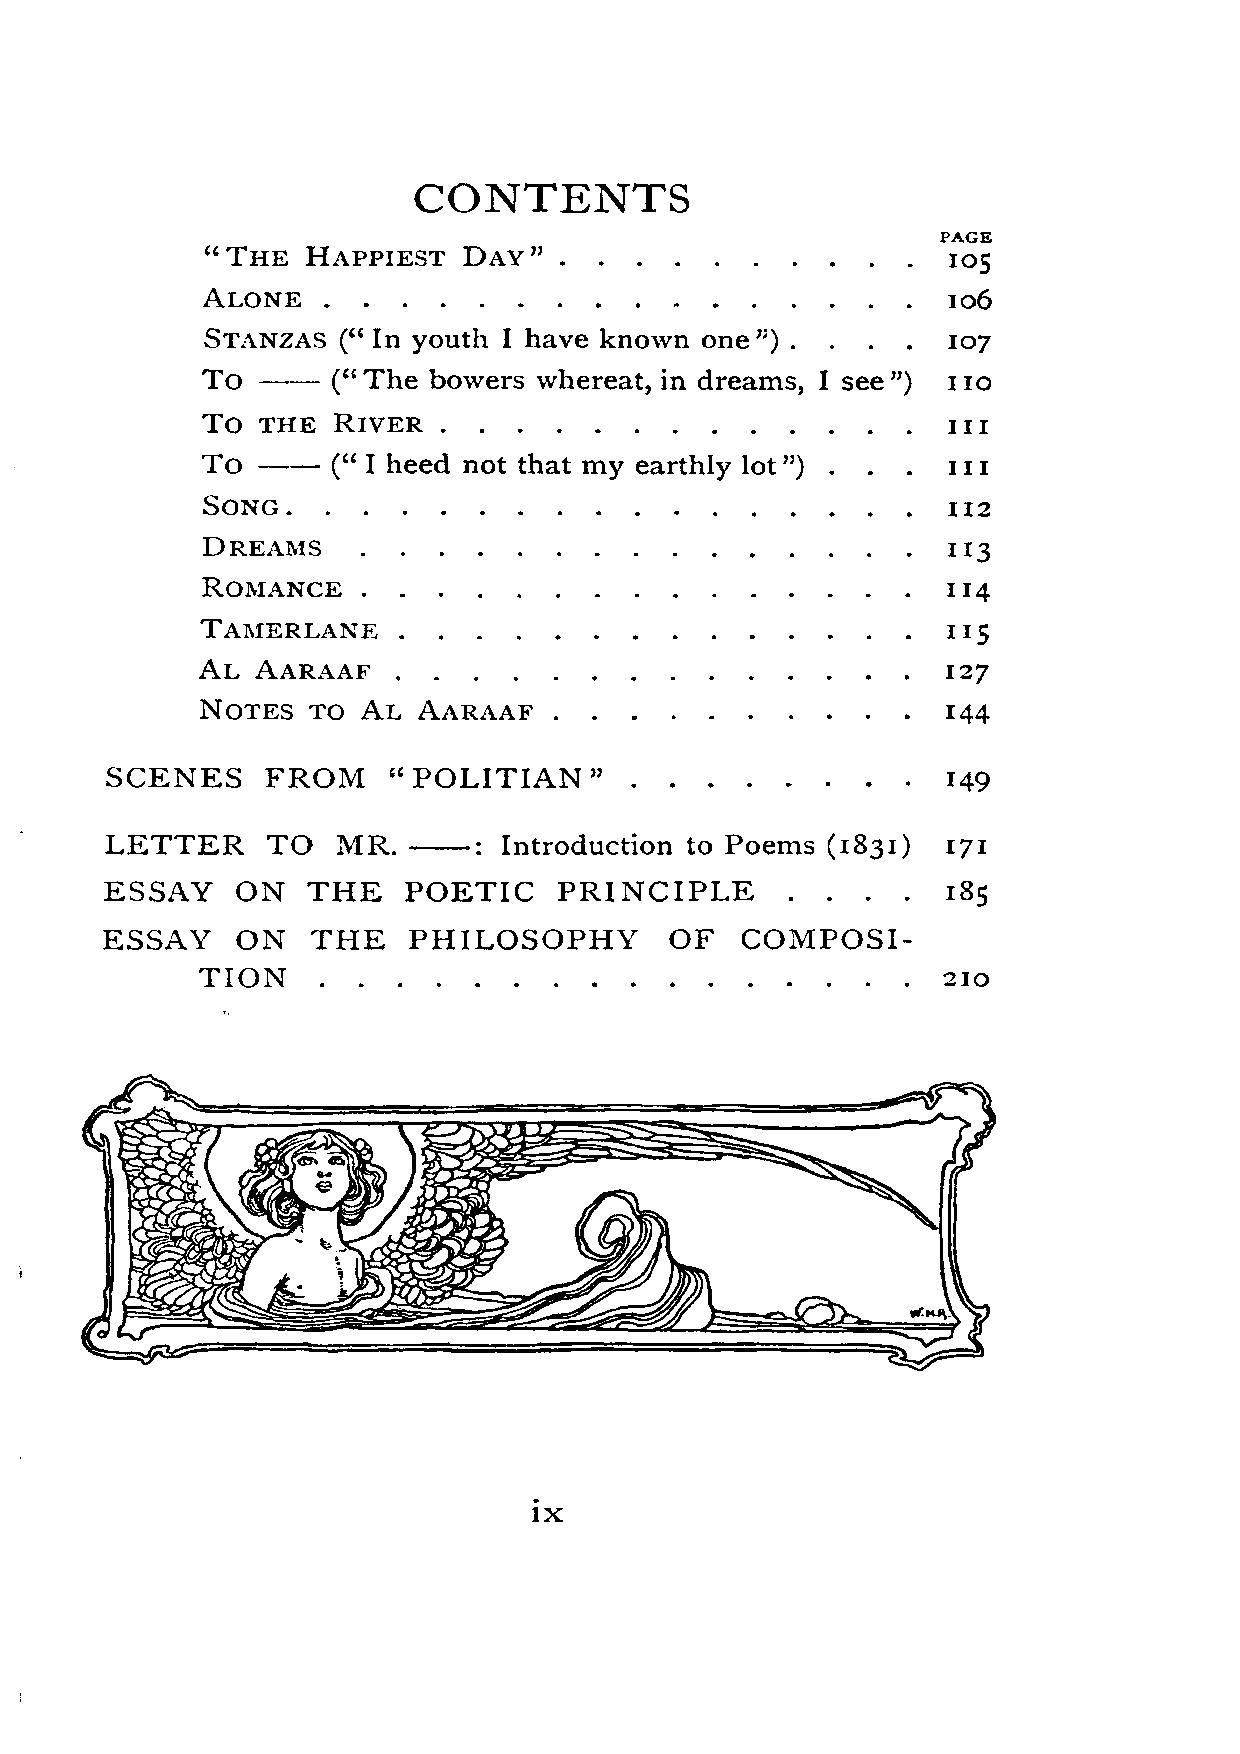TOC_chapter: (97, 917, 919, 997), (196, 361, 914, 404), (98, 820, 913, 858), (97, 868, 761, 909), (187, 446, 807, 488), (201, 317, 782, 362), (97, 756, 601, 798), (178, 228, 553, 282), (196, 697, 534, 723), (195, 409, 427, 442), (195, 611, 382, 648), (195, 656, 382, 692), (201, 569, 348, 607), (196, 530, 323, 562), (189, 280, 305, 310), (196, 491, 285, 523)
TOC_pagenumber: (938, 568, 1004, 611), (933, 527, 1001, 564), (929, 827, 998, 862), (938, 760, 998, 797), (939, 403, 994, 443), (938, 361, 1002, 395), (942, 692, 994, 733), (938, 450, 1002, 482), (935, 875, 996, 909), (943, 242, 1001, 276), (943, 488, 998, 523), (938, 956, 992, 990), (939, 323, 997, 356), (942, 615, 994, 647), (942, 658, 994, 687), (942, 283, 996, 311)
chapter: (409, 178, 688, 217)
